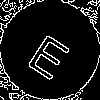E: (25, 25, 78, 82)
